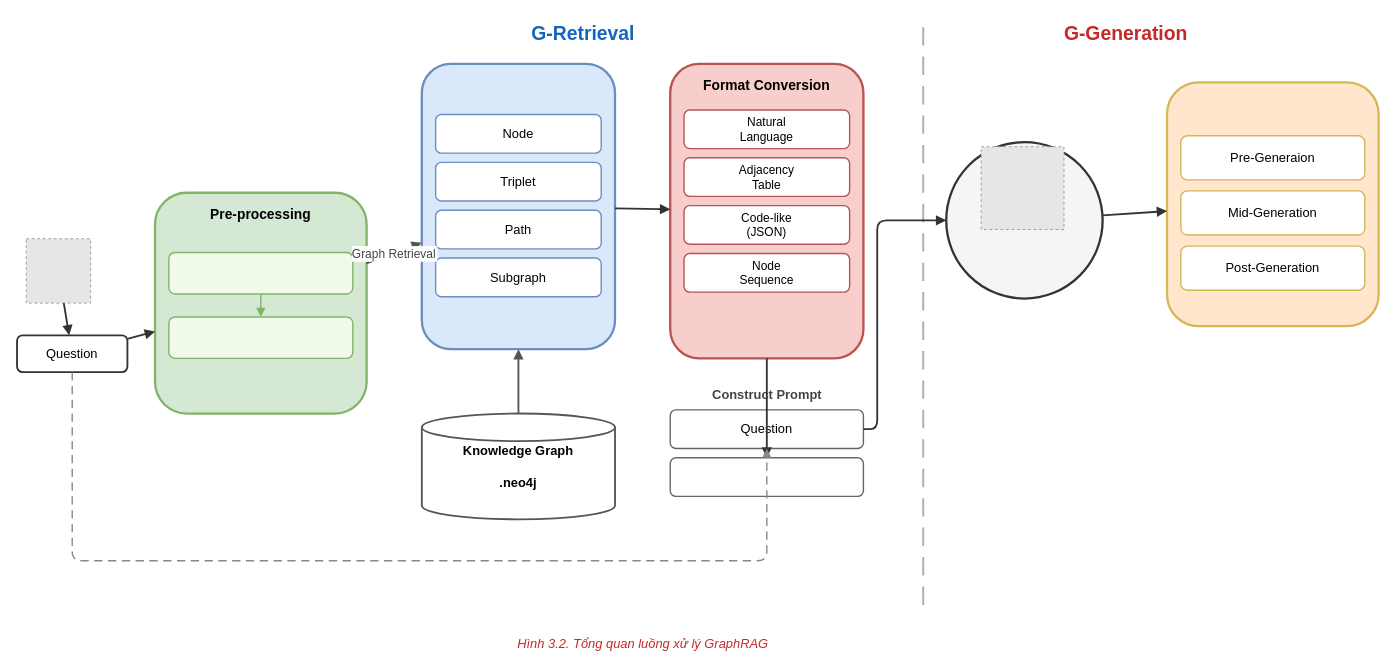
Image size: 1396x671. Some labels were removed from this diagram. Grey dashed boxes stand in for pictures. The box of each missing label's shape, as (x1, y1, x2, y2) in pixels:
Context: (669, 457, 864, 497)
Entity Extraction: (168, 316, 353, 359)
Query Processing: (168, 251, 353, 294)
Retrieval Granularity: (420, 62, 616, 350)
Stragety Generation: (1165, 81, 1379, 327)
